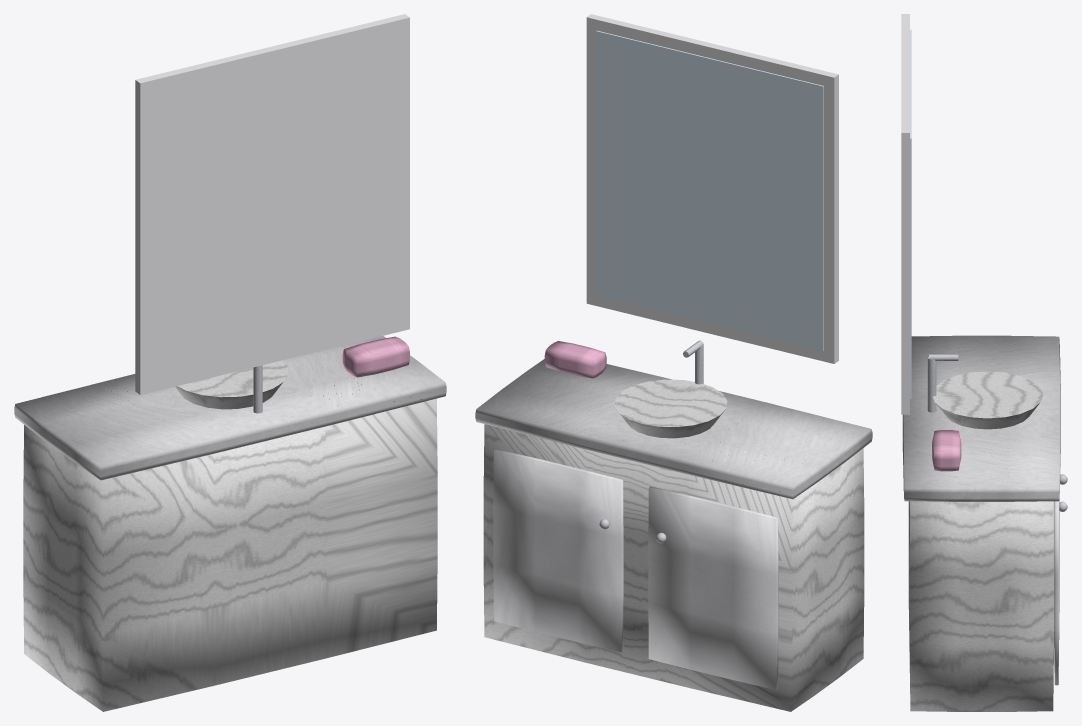
Rendered from vanity.glb.
The picture shows the model from 3 angles, left to right: view 1: azimuth 30°, elevation 25°; view 2: azimuth 150°, elevation 25°; view 3: azimuth 270°, elevation 25°; orthographic projection. The views are drawn at different scales.
Parts seen in each view (by area): view 1: vanity_body; view 2: vanity_body; view 3: vanity_body.
Boxes of the visible parts, x1,y1,x2,y2 form: vanity_body: [14, 14, 446, 711]; vanity_body: [475, 14, 872, 711]; vanity_body: [901, 14, 1067, 711].
Size of the model in its own units: 1.24 by 2.13 by 0.568.
8 materials, 5 textured.
